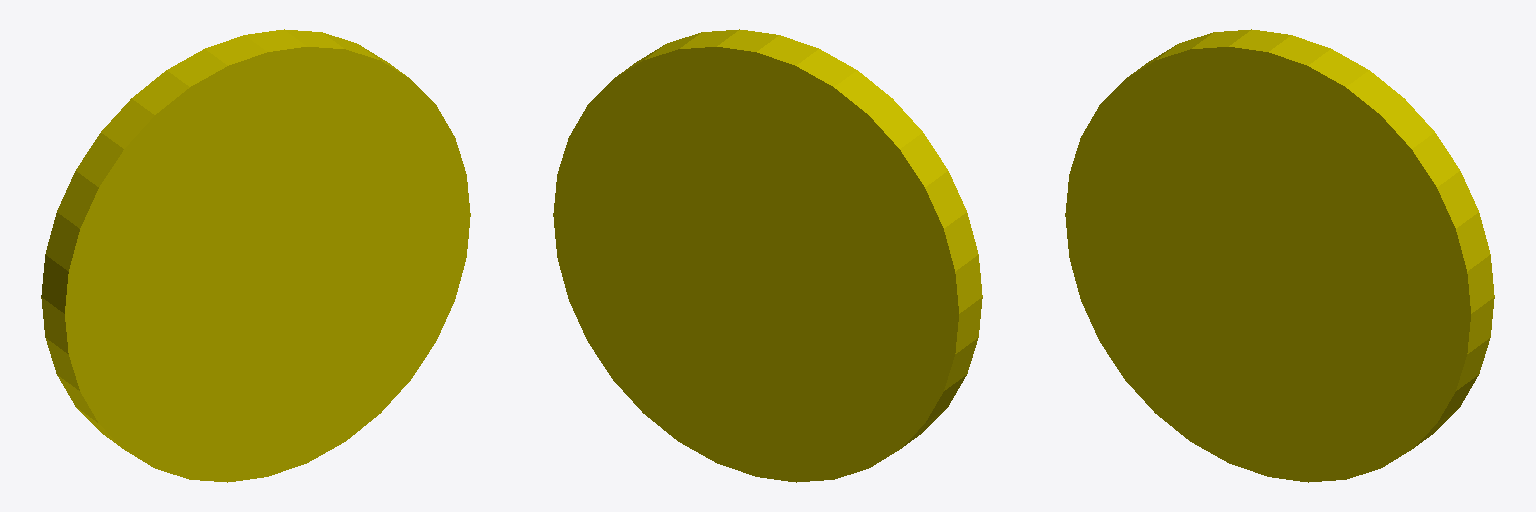
Rendered from golddoubloon.obj.
3 renders of one model, left to right at view 1: azimuth 30°, elevation 25°; view 2: azimuth 150°, elevation 25°; view 3: azimuth 330°, elevation 25°, orthographic.
Parts seen in each view (by area): view 1: Cylinder; view 2: Cylinder; view 3: Cylinder.
Part boxes in pixels (x1,y1,x2,y2): Cylinder: (41, 29, 470, 482); Cylinder: (553, 29, 982, 482); Cylinder: (1065, 29, 1494, 482).
Bounding box in the file's own units: 0.07 × 0.07 × 0.007.